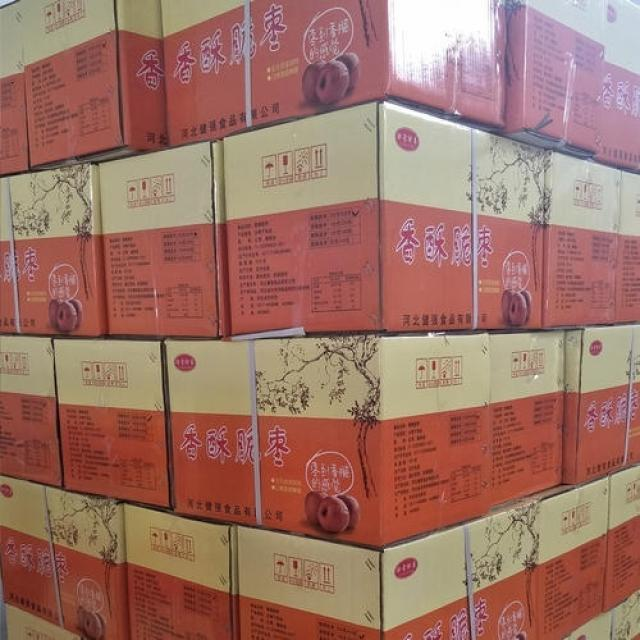box: (162, 329, 564, 549), (222, 102, 549, 339), (234, 478, 610, 639), (157, 0, 508, 149), (99, 141, 230, 339), (21, 0, 170, 173), (0, 480, 128, 639), (53, 338, 168, 511), (10, 163, 106, 337), (503, 0, 603, 159), (122, 504, 236, 639), (544, 151, 622, 329), (562, 324, 639, 487), (0, 337, 61, 489), (596, 0, 639, 172), (0, 3, 30, 175), (607, 467, 639, 614), (616, 171, 639, 325), (0, 176, 21, 335), (0, 602, 84, 639), (610, 589, 639, 639), (566, 612, 611, 639)
